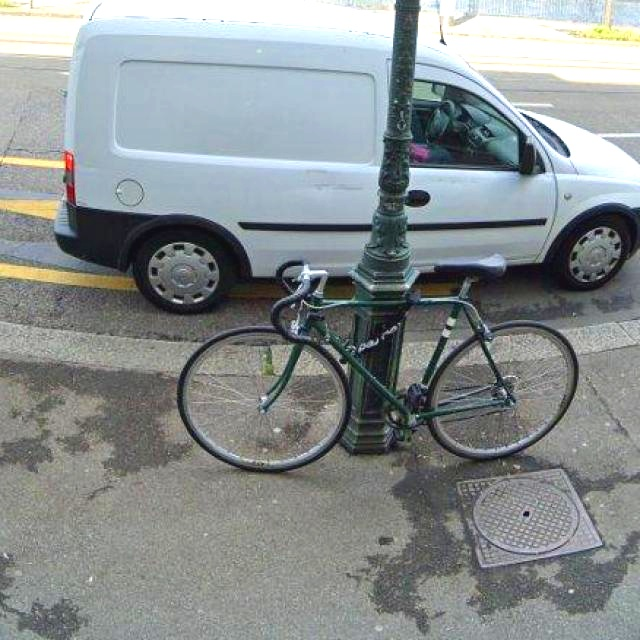bicycle: (116, 238, 585, 502)
car: (31, 0, 640, 351)
